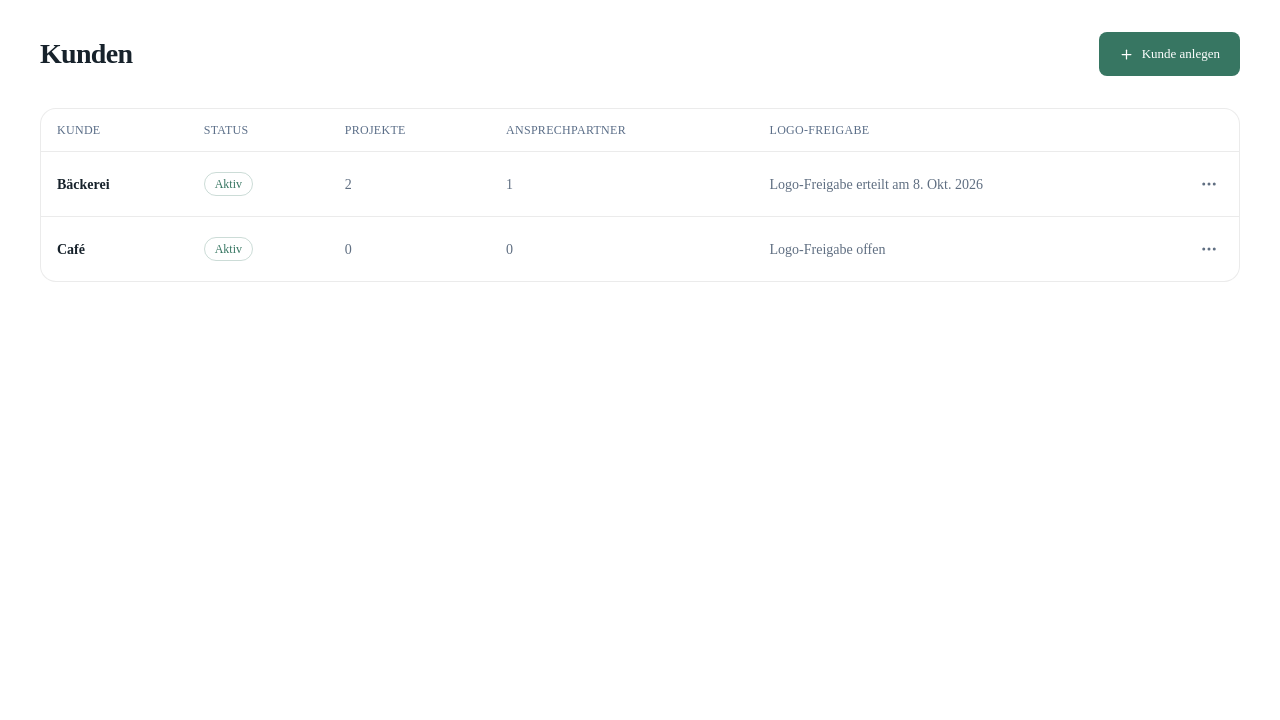
Test: Verwaltung › AK-10: Kundenliste mit Zählern und Stand der Logo-Freigabe als Text, anlegen im Dialog
The image size is (1280, 720).
Expected: the heading "Kunden" is shown, [40,38,132,70]
Expected: the text "Logo-Freigabe erteilt am 8. Okt. 2026" is shown, [754,152,1179,216]
Click the button "Kunde anlegen".
click(1169, 54)  # box [1099,32,1240,76]
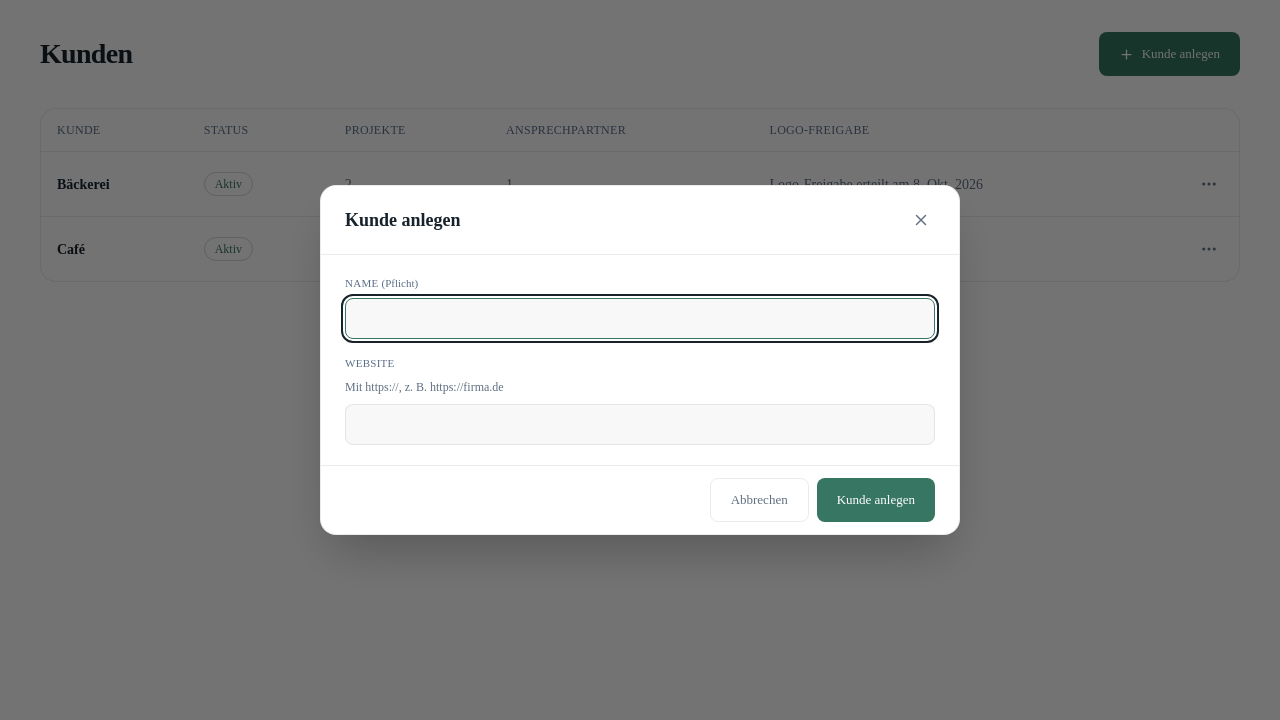
Result: the field labelled "Name (Pflicht)" is shown at [345,298,935,339]
